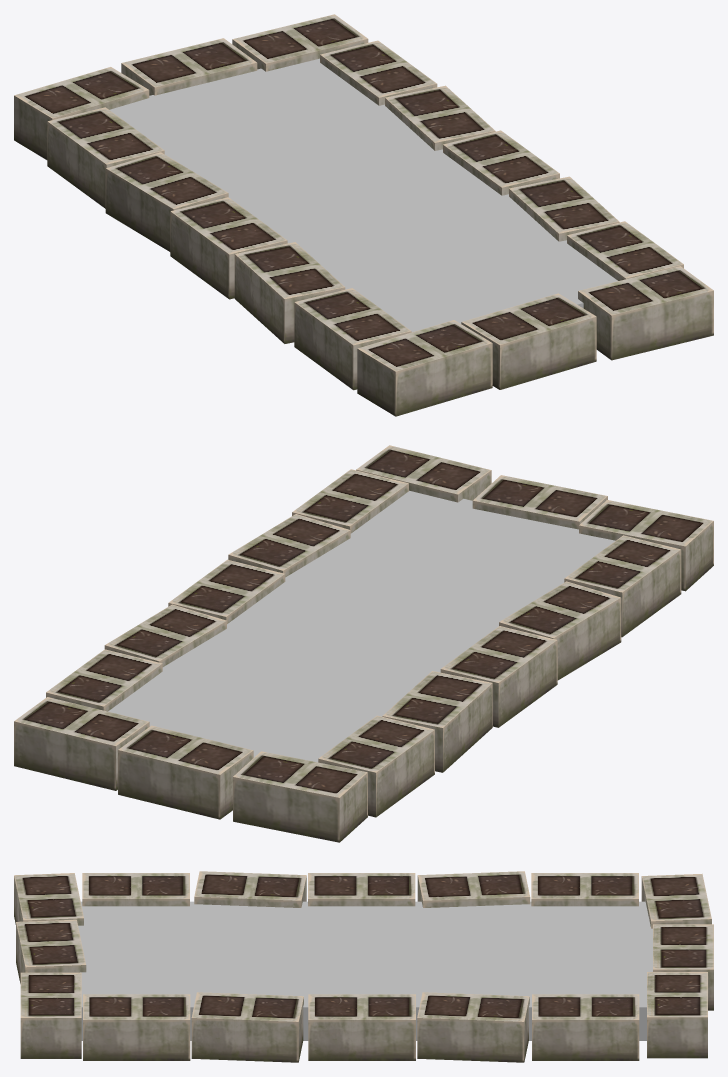
The model's file is raisedBed06.fbx.
3 views of the same model, one above another, from view 1: azimuth 30°, elevation 25°; view 2: azimuth 150°, elevation 25°; view 3: azimuth 270°, elevation 25° (orthographic). The views are drawn at different scales.
Visible parts, largest first — view 1: raisedBed06; view 2: raisedBed06; view 3: raisedBed06.
Boxes of the visible parts, box(x1,y1,x2,y2) form: raisedBed06: box(14, 14, 713, 416); raisedBed06: box(14, 445, 713, 842); raisedBed06: box(14, 871, 713, 1062).
Bounding box in the file's own units: 144 × 18.26 × 283.
